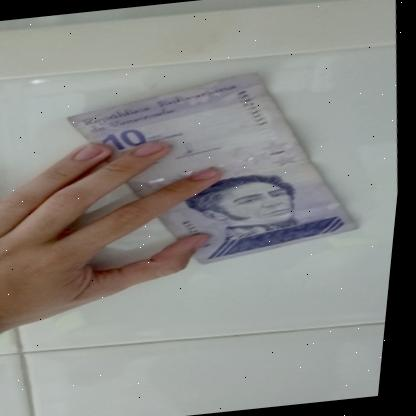ten-front-vef: (53, 61, 376, 278)
